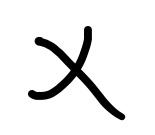mult: (29, 26, 124, 120)
